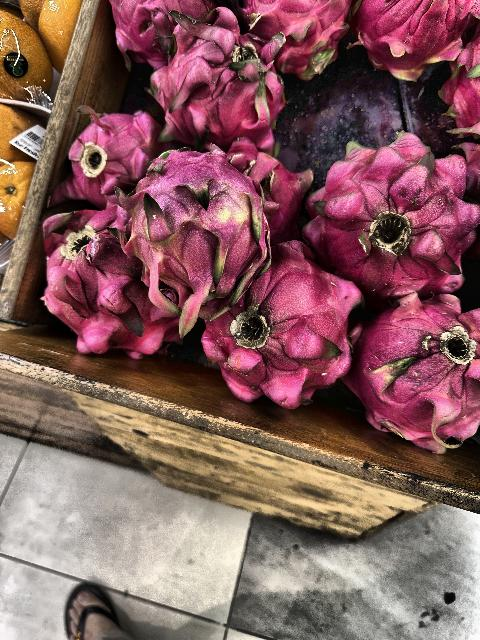buah-naga-belum-matang: (113, 144, 277, 318)
buah-naga-matang: (308, 128, 478, 294), (32, 202, 184, 368), (354, 288, 480, 466), (210, 252, 354, 406), (151, 11, 290, 153), (56, 98, 167, 202), (352, 0, 476, 78), (236, 1, 346, 72), (102, 1, 222, 62)
